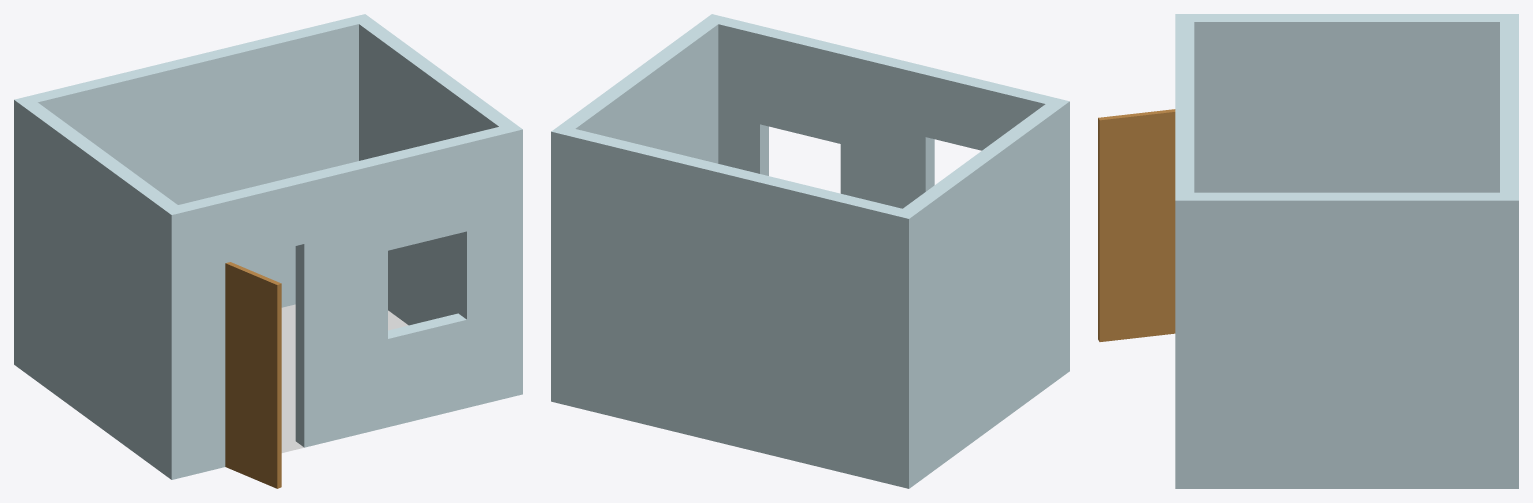
3 renders of one model, left to right at view 1: azimuth 30°, elevation 25°; view 2: azimuth 150°, elevation 25°; view 3: azimuth 270°, elevation 25°, orthographic. The views are drawn at different scales.
Visible parts, largest first — view 1: Wall_2, Wall_5, Wall_3, Wall_0, Wall_7, Wall_6, Window_1, Door_4, Wall_4, Floor; view 2: Wall_5, Wall_2, Wall_0, Wall_3, Window_1, Wall_6, Wall_4, Wall_7; view 3: Wall_0, Wall_2, Door_4, Wall_5, Wall_6, Wall_3, Window_1, Wall_4, Wall_7.
Part boxes in pixels (box(x1,y1,x2,y2)): Wall_2: box(14, 96, 181, 476); Wall_5: box(14, 14, 372, 370); Wall_3: box(295, 156, 387, 447); Wall_0: box(350, 14, 513, 325); Wall_7: box(164, 195, 226, 479); Wall_6: box(458, 123, 522, 407); Window_1: box(379, 137, 466, 427); Door_4: box(225, 262, 281, 488); Wall_4: box(218, 176, 304, 262); Floor: box(281, 304, 408, 452); Wall_5: box(551, 125, 914, 488); Wall_2: box(893, 101, 1064, 488); Wall_0: box(551, 18, 721, 404); Wall_3: box(840, 47, 934, 208); Window_1: box(760, 28, 848, 143); Wall_6: box(704, 14, 768, 175); Wall_4: box(925, 68, 1013, 150); Wall_7: box(1005, 88, 1069, 374); Wall_0: box(1185, 192, 1518, 488); Wall_2: box(1185, 14, 1518, 192); Door_4: box(1098, 109, 1175, 341); Wall_5: box(1500, 14, 1518, 488); Wall_6: box(1175, 171, 1194, 488); Wall_3: box(1175, 84, 1194, 128); Window_1: box(1175, 129, 1194, 170); Wall_4: box(1175, 43, 1194, 84); Wall_7: box(1175, 14, 1194, 42).
Size of the model in its own units: 3.61 by 2.6 by 3.44.
